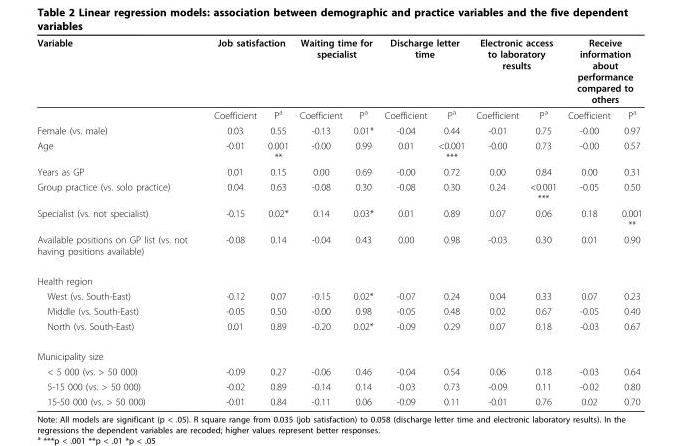table: (36, 36, 641, 406)
table column: (36, 36, 200, 406), (200, 36, 261, 406), (293, 36, 347, 406), (378, 36, 432, 406), (469, 36, 523, 406), (561, 36, 615, 406), (523, 36, 561, 406), (432, 36, 469, 406), (261, 36, 293, 406), (347, 36, 378, 406), (615, 36, 641, 406)
table column header: (36, 36, 641, 122)
table projected row header: (36, 265, 641, 288), (36, 340, 641, 363)
table row: (36, 36, 641, 106), (36, 231, 641, 265), (36, 178, 641, 205), (36, 137, 641, 163), (36, 205, 641, 231), (36, 265, 641, 288), (36, 340, 641, 363), (36, 318, 641, 340), (36, 106, 641, 122), (36, 122, 641, 137), (36, 163, 641, 178), (36, 288, 641, 303), (36, 303, 641, 318), (36, 363, 641, 378), (36, 378, 641, 393), (36, 393, 641, 406)
table spanning cell: (36, 36, 200, 122), (200, 36, 293, 106), (469, 36, 561, 106), (378, 36, 469, 106), (293, 36, 378, 106), (561, 36, 641, 106)
